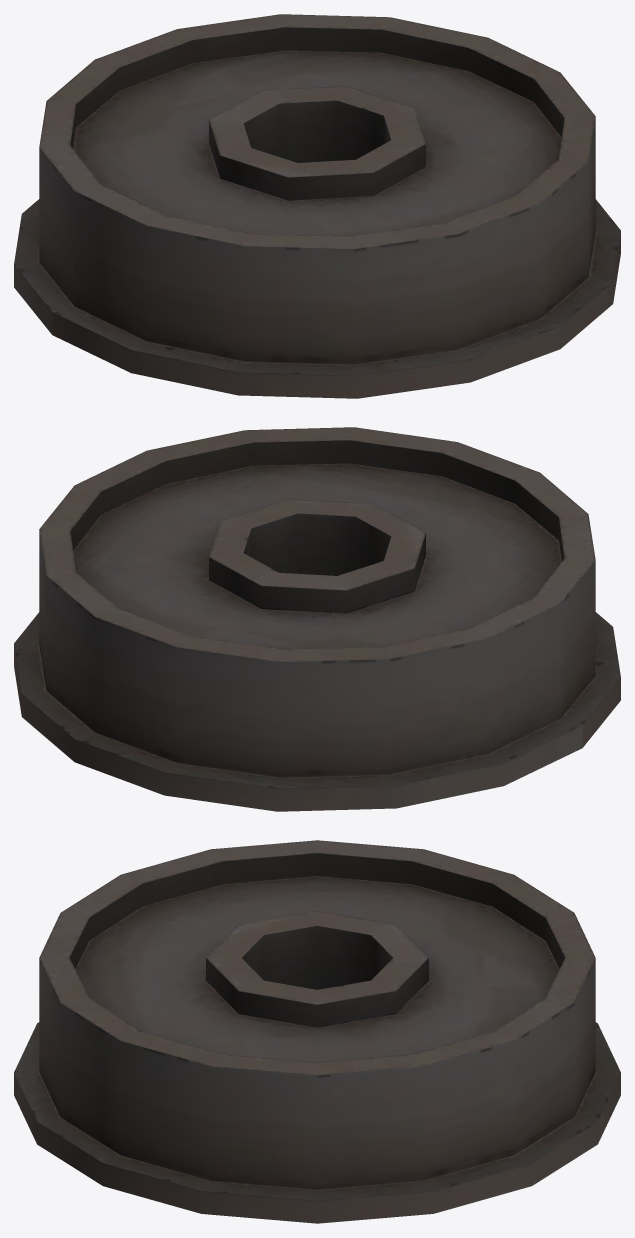
The picture shows the model from 3 angles, top to bottom: view 1: azimuth 30°, elevation 25°; view 2: azimuth 150°, elevation 25°; view 3: azimuth 270°, elevation 25°; orthographic projection.
Parts seen in each view (by area): view 1: body0_model0_lod0_mesh0; view 2: body0_model0_lod0_mesh0; view 3: body0_model0_lod0_mesh0.
Boxes of the visible parts, left/top/right/bottom form: body0_model0_lod0_mesh0: left=14, top=14, right=620, bottom=398; body0_model0_lod0_mesh0: left=14, top=427, right=620, bottom=811; body0_model0_lod0_mesh0: left=14, top=840, right=620, bottom=1223.
Bounding box in the file's own units: 36 × 9 × 36.
1 material, 1 textured.
